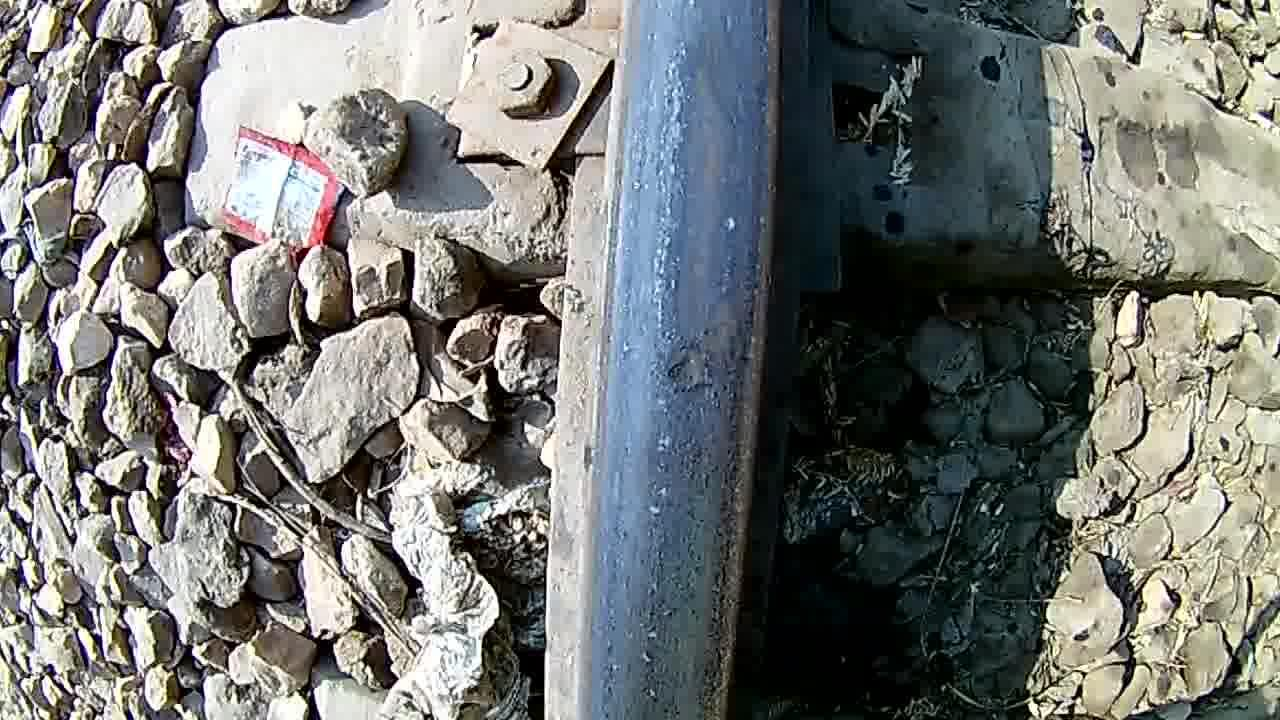bolt_missing: (624, 13, 780, 476)
